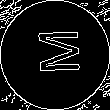M_W: (29, 31, 81, 79)
